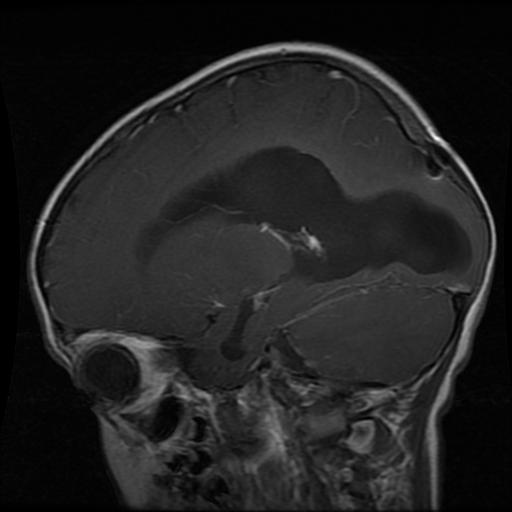Gliomia_tumour: (135, 142, 470, 359)
